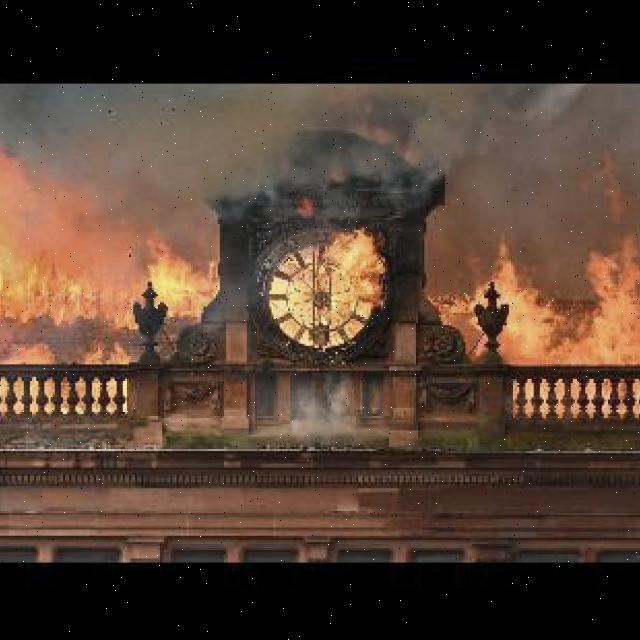fire: (445, 232, 640, 364), (0, 234, 207, 318), (315, 224, 387, 309)
smoke: (86, 81, 552, 218), (270, 356, 364, 441)
